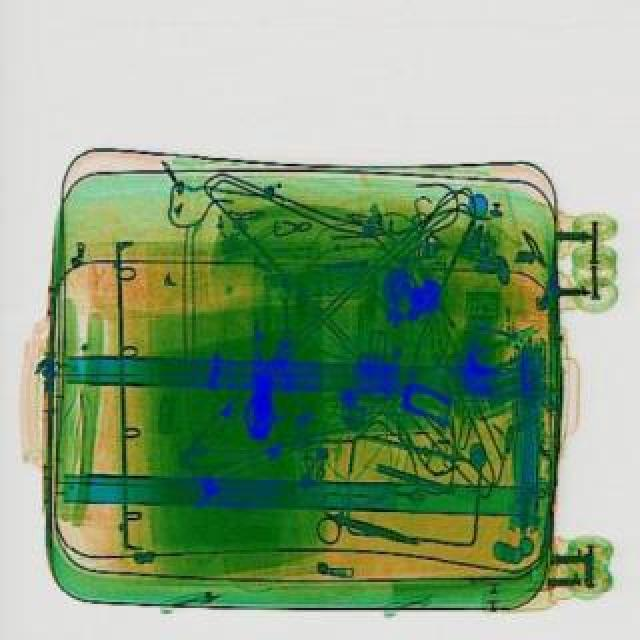pliers: (310, 486, 430, 564)
